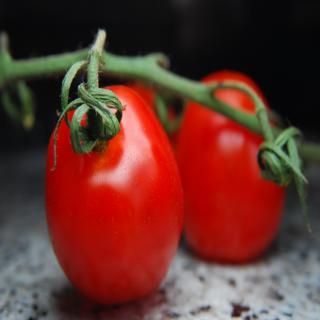tomato: (42, 58, 186, 304), (171, 67, 285, 267), (122, 75, 181, 139)
